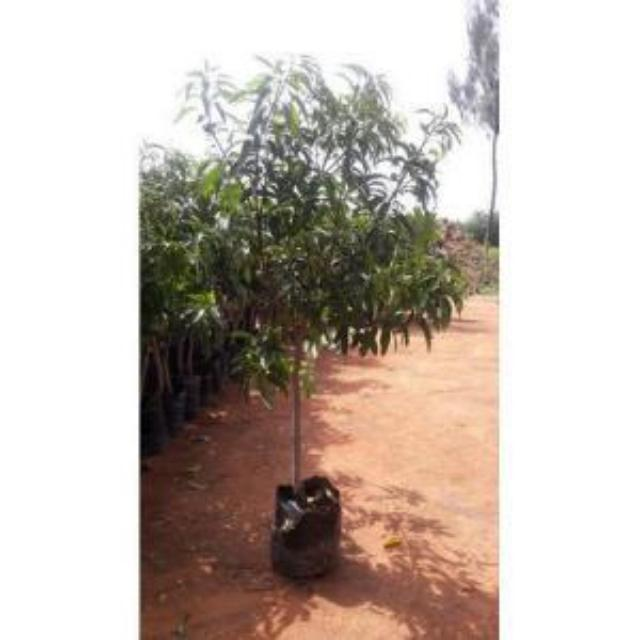tree: (175, 34, 469, 570)
